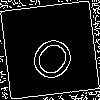O: (25, 25, 85, 86)
